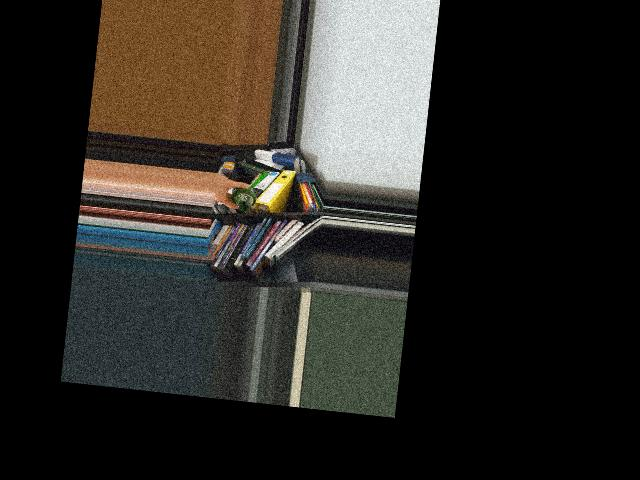beer: (231, 184, 257, 212)
